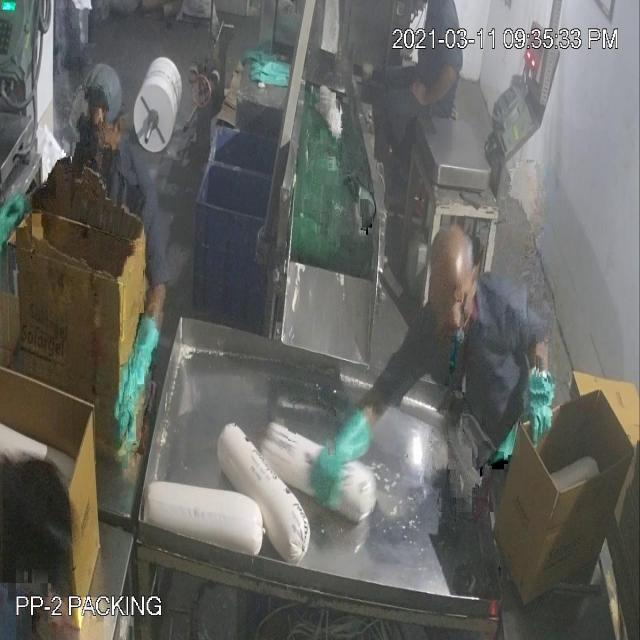No_Gloves: (408, 59, 464, 114)
